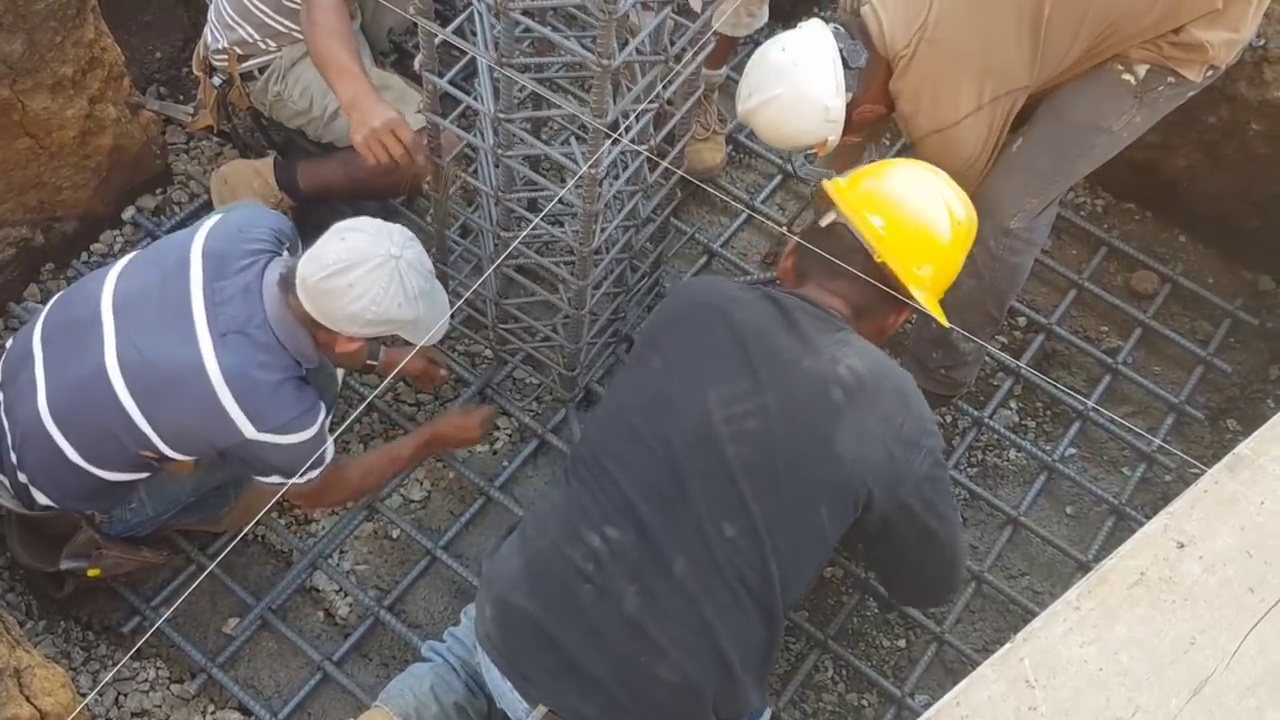helmet: (824, 156, 980, 329), (741, 14, 849, 154)
helmet-off: (292, 220, 447, 378)
helmet-on: (759, 155, 980, 349), (747, 15, 902, 147)
person: (343, 153, 983, 719), (738, 0, 1279, 399), (0, 202, 499, 563), (191, 0, 440, 218), (579, 2, 747, 178)
